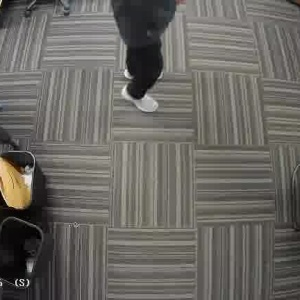person: (107, 0, 189, 106)
